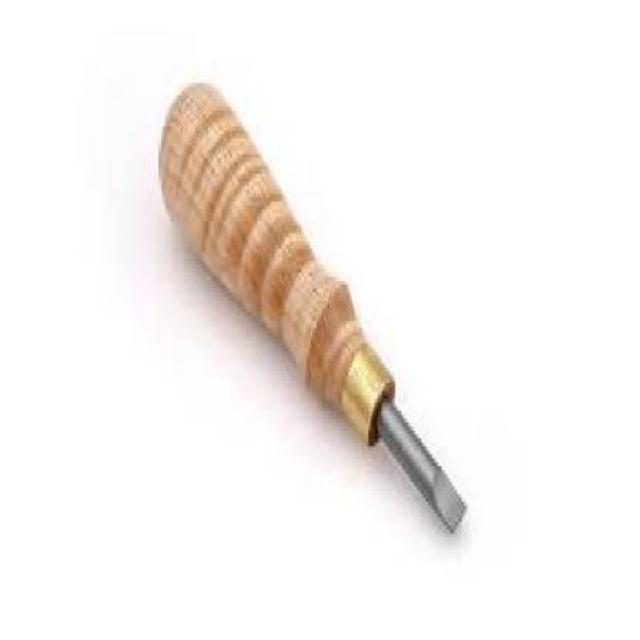screwdriver: (156, 74, 467, 546)
